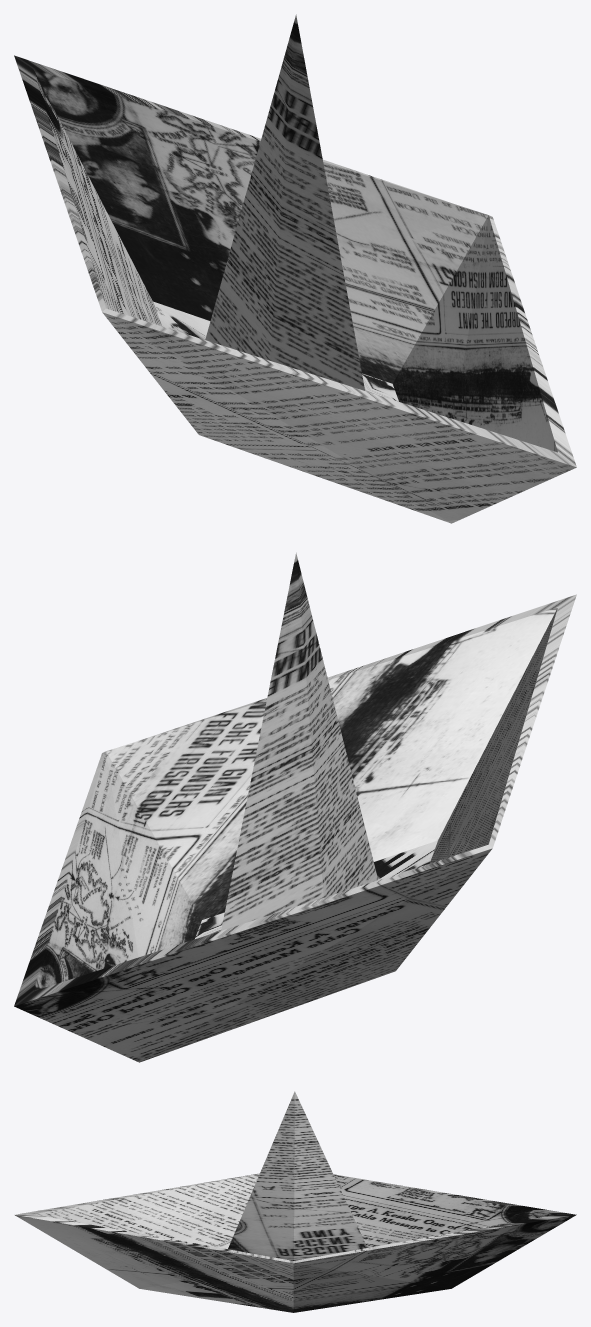
File: SailBoat2.glb
3 renders of one model, top to bottom at view 1: azimuth 30°, elevation 25°; view 2: azimuth 150°, elevation 25°; view 3: azimuth 270°, elevation 25°, orthographic. The views are drawn at different scales.
Parts seen in each view (by area): view 1: Plane; view 2: Plane; view 3: Plane.
Boxes of the visible parts, x1,y1,x2,y2 form: Plane: [14, 14, 576, 523]; Plane: [14, 552, 576, 1062]; Plane: [14, 1091, 576, 1312].
Bounding box in the file's own units: 2.73 × 2.64 × 6.8.
1 material, 1 textured.
